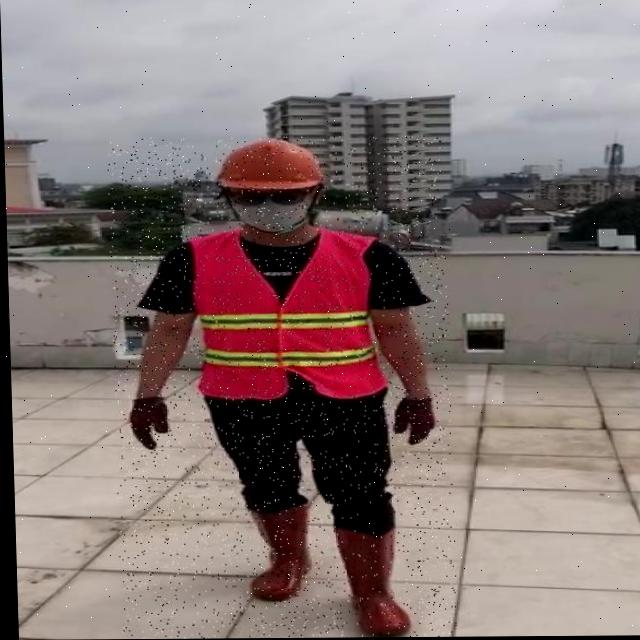Gloves: (127, 396, 170, 451), (391, 396, 434, 444)
Helmet: (214, 137, 326, 237)
Safety-Boot: (331, 524, 408, 638), (245, 497, 310, 602)
Safety-Vest: (186, 226, 387, 403)
